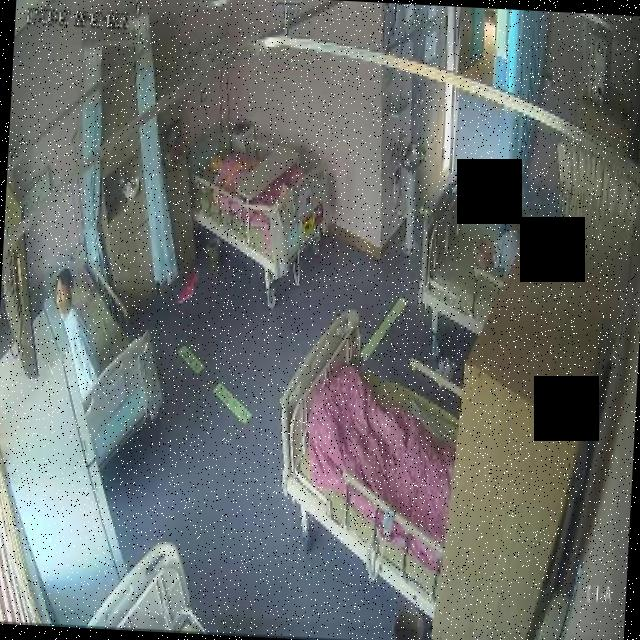bed: (271, 308, 466, 582), (184, 108, 347, 304), (42, 264, 170, 473), (416, 173, 522, 338)
patient: (48, 268, 106, 404)
